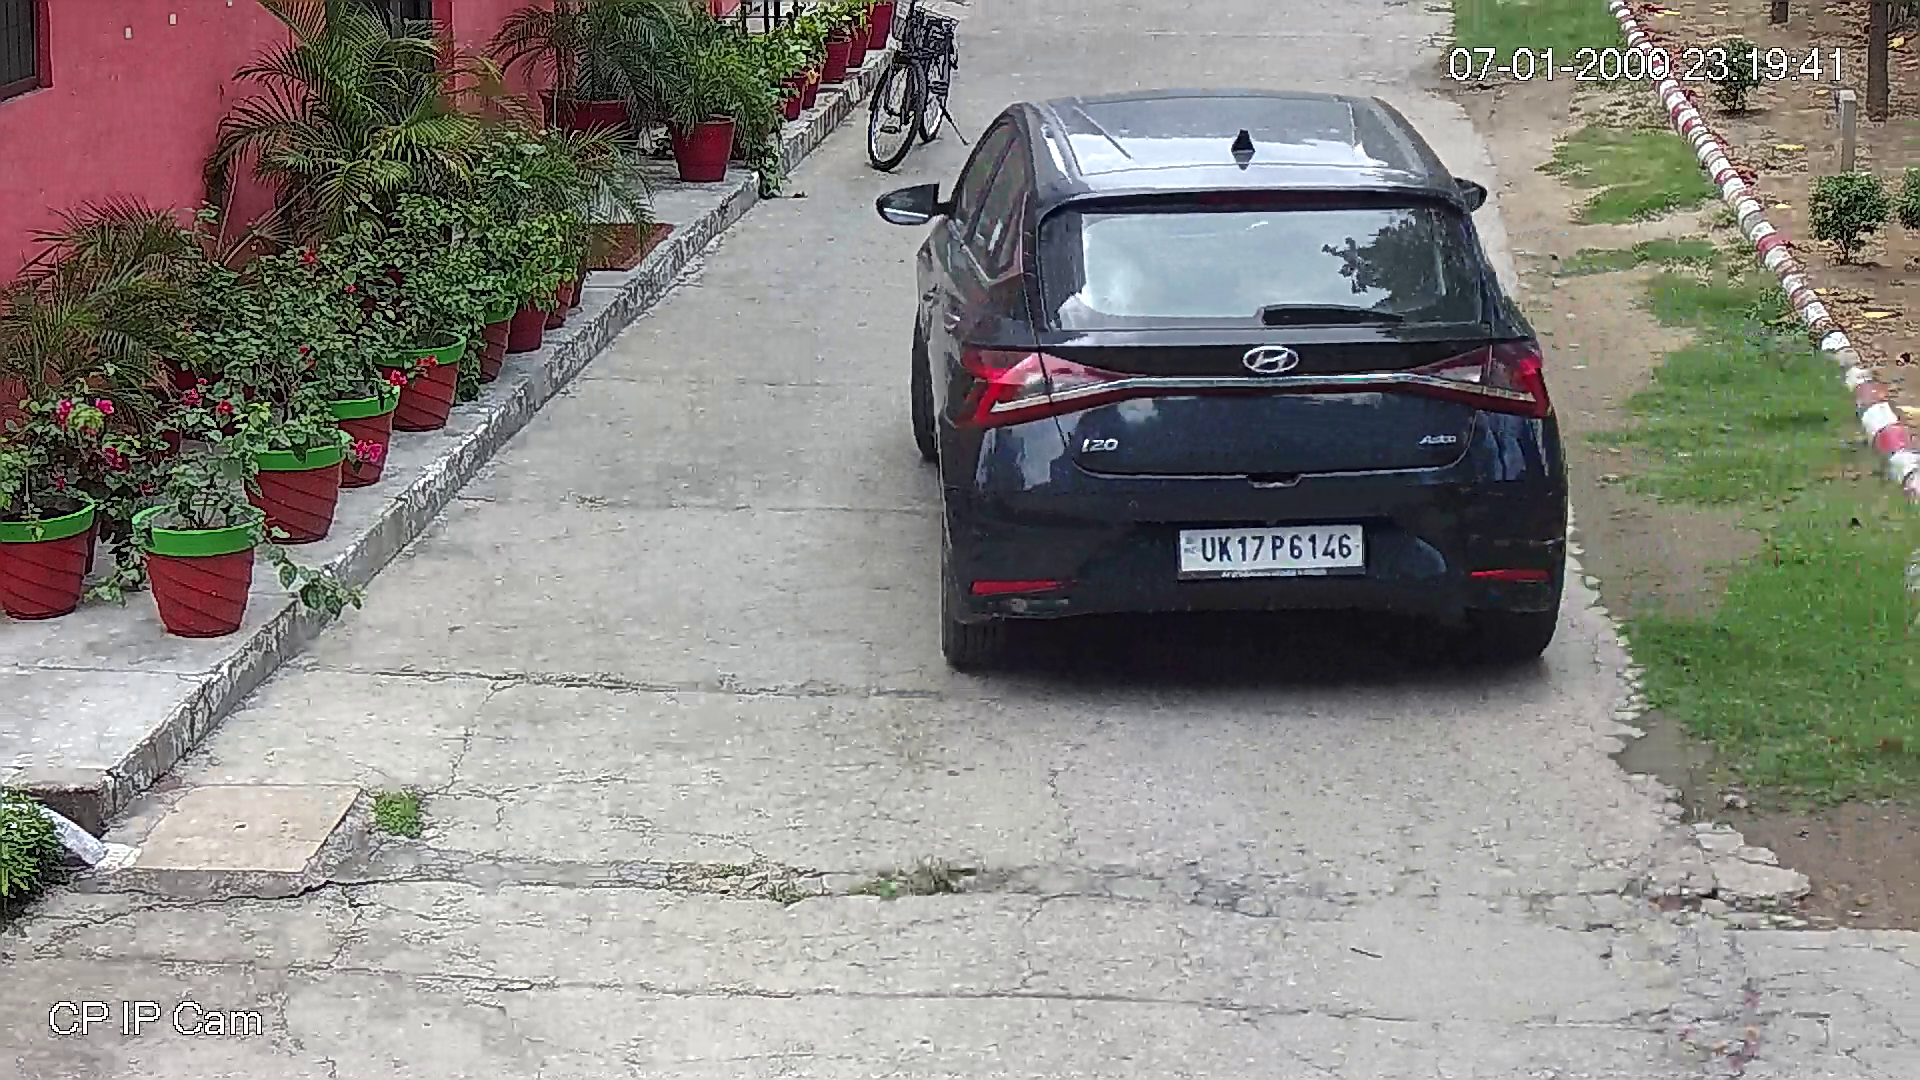plate: (1180, 524, 1365, 577)
